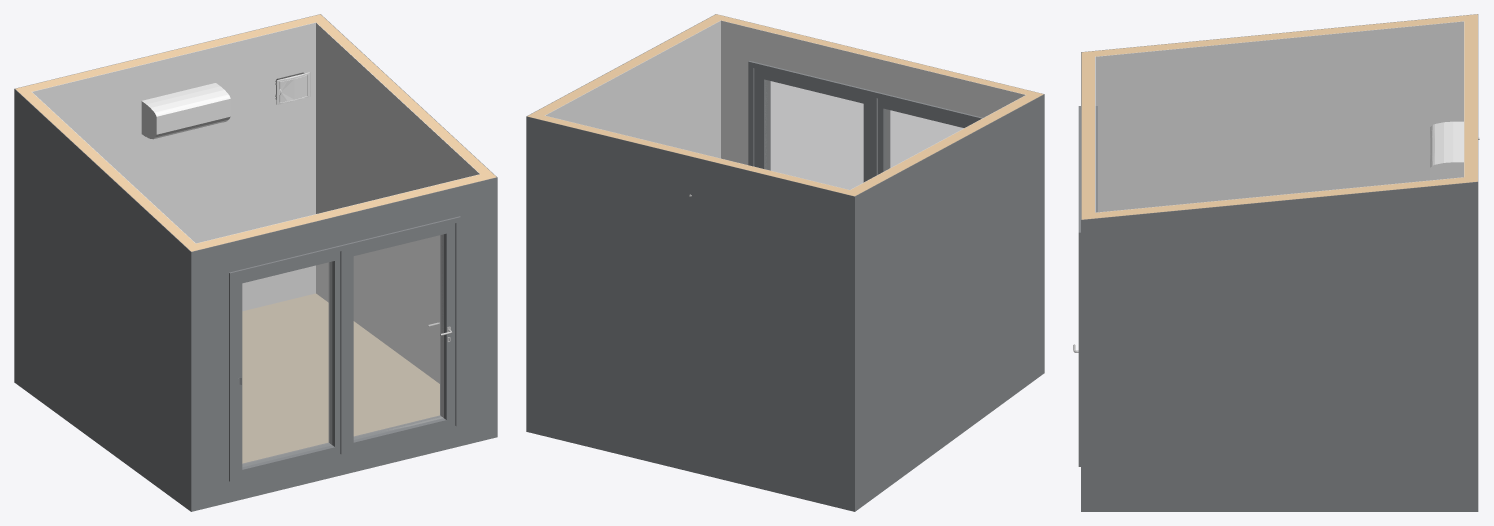
Rendered from kornelijaleks@gmail.fbx.
3 renders of one model, left to right at view 1: azimuth 30°, elevation 25°; view 2: azimuth 150°, elevation 25°; view 3: azimuth 270°, elevation 25°, orthographic. The views are drawn at different scales.
Parts seen in each view (by area): view 1: IfcWall/Part:2735904, IfcWall/Part:2397154, IfcWall/Part:2319977, IfcWall/Part:2397151, IfcDoor/Durys išorinės:1200x2100x120 (kairinės):2439432, IfcWindow/Langai (Akrusta):1200x2100x120 (kairinis):2584816, IfcSlab/Part:2319985, IfcEnergyConversionDevice/Fujitsu General_ASUA30-36TLAV2:ASU, IfcWall/Part:2397156, IfcWall/Part:2319978, IfcWall/Part:2397153, IfcWall/Part:2735905 (+2 smaller); view 2: IfcWall/Part:2397155, IfcWall/Part:2735904, IfcDoor/Durys išorinės:1200x2100x120 (kairinės):2439432, IfcWall/Part:2319976, IfcWall/Part:2397151, IfcWindow/Langai (Akrusta):1200x2100x120 (kairinis):2584816, IfcWall/Part:2397156, IfcWall/Part:2319978, IfcWall/Part:2397153, IfcWall/Part:2735905; view 3: IfcWall/Part:2397152, IfcWall/Part:2735903, IfcWall/Part:2397153, IfcWall/Part:2397156, IfcWall/Part:2735905, IfcWall/Part:2319978, IfcEnergyConversionDevice/Fujitsu General_ASUA30-36TLAV2:ASU, IfcDoor/Durys išorinės:1200x2100x120 (kairinės):2439432, IfcWall/Part:2397155.
Part boxes in pixels (bbox=[...]): IfcWall/Part:2735904: bbox=[14, 89, 191, 511]; IfcWall/Part:2397154: bbox=[31, 22, 315, 310]; IfcWall/Part:2319977: bbox=[191, 177, 496, 511]; IfcWall/Part:2397151: bbox=[316, 22, 479, 383]; IfcDoor/Durys išorinės:1200x2100x120 (kairinės):2439432: bbox=[340, 216, 460, 454]; IfcWindow/Langai (Akrusta):1200x2100x120 (kairinis):2584816: bbox=[229, 244, 349, 481]; IfcSlab/Part:2319985: bbox=[242, 293, 439, 463]; IfcEnergyConversionDevice/Fujitsu General_ASUA30-36TLAV2:ASU: bbox=[141, 83, 230, 139]; IfcWall/Part:2397156: bbox=[15, 14, 325, 94]; IfcWall/Part:2319978: bbox=[186, 174, 486, 251]; IfcWall/Part:2397153: bbox=[316, 20, 496, 179]; IfcWall/Part:2735905: bbox=[21, 92, 195, 246]; IfcWall/Part:2397155: bbox=[526, 116, 855, 511]; IfcWall/Part:2735904: bbox=[855, 94, 1044, 511]; IfcDoor/Durys išorinės:1200x2100x120 (kairinės):2439432: bbox=[748, 61, 877, 189]; IfcWall/Part:2319976: bbox=[721, 20, 1025, 164]; IfcWall/Part:2397151: bbox=[545, 20, 720, 158]; IfcWindow/Langai (Akrusta):1200x2100x120 (kairinis):2584816: bbox=[868, 91, 982, 179]; IfcWall/Part:2397156: bbox=[527, 113, 860, 196]; IfcWall/Part:2319978: bbox=[721, 17, 1043, 97]; IfcWall/Part:2397153: bbox=[534, 14, 726, 115]; IfcWall/Part:2735905: bbox=[850, 95, 1036, 192]; IfcWall/Part:2397152: bbox=[1081, 181, 1477, 511]; IfcWall/Part:2735903: bbox=[1095, 21, 1463, 212]; IfcWall/Part:2397153: bbox=[1081, 177, 1464, 219]; IfcWall/Part:2397156: bbox=[1464, 14, 1477, 182]; IfcWall/Part:2735905: bbox=[1095, 15, 1464, 56]; IfcWall/Part:2319978: bbox=[1081, 51, 1094, 213]; IfcEnergyConversionDevice/Fujitsu General_ASUA30-36TLAV2:ASU: bbox=[1430, 121, 1463, 180]; IfcDoor/Durys išorinės:1200x2100x120 (kairinės):2439432: bbox=[1078, 167, 1097, 466]; IfcWall/Part:2397155: bbox=[1478, 14, 1478, 511].
Bounding box in the file's own units: 330 × 303 × 338.
